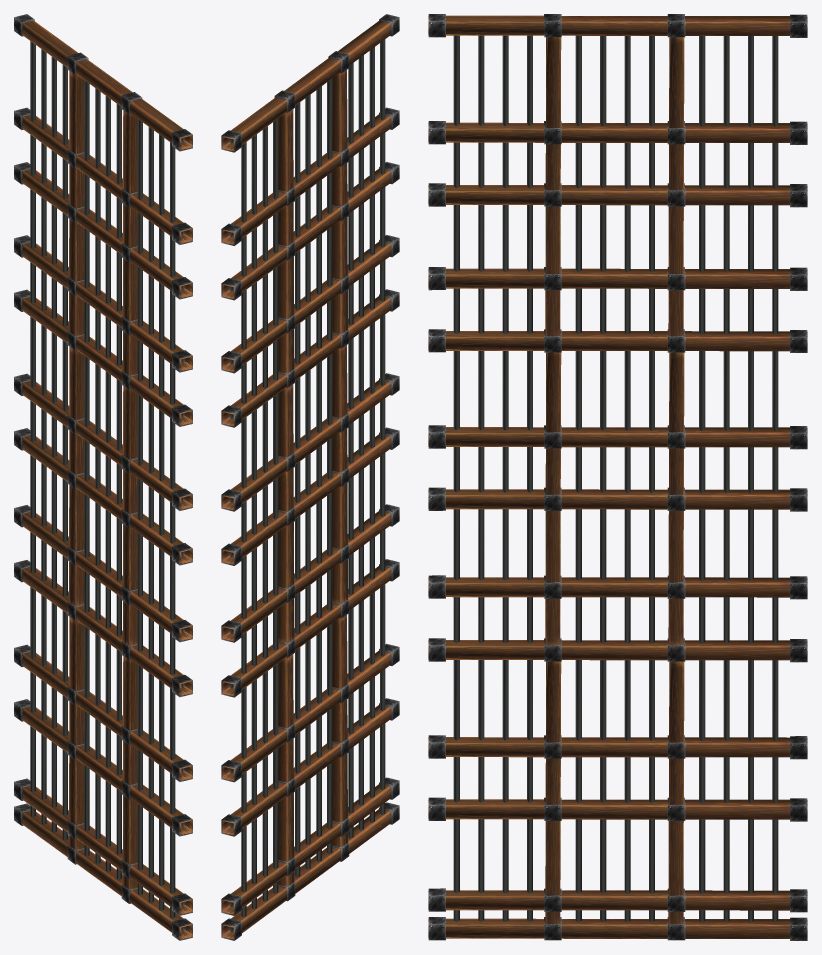
Rendered from INST_SWORDLIGHT_MAINGATE.fbx.
The picture shows the model from 3 angles, left to right: view 1: azimuth 30°, elevation 25°; view 2: azimuth 150°, elevation 25°; view 3: azimuth 270°, elevation 25°; orthographic projection. The views are drawn at different scales.
Parts seen in each view (by area): view 1: INST_SWORDLIGHT_MAINGATE; view 2: INST_SWORDLIGHT_MAINGATE; view 3: INST_SWORDLIGHT_MAINGATE.
Boxes of the visible parts, x1=… form: INST_SWORDLIGHT_MAINGATE: x1=14, y1=14, x2=192, y2=940; INST_SWORDLIGHT_MAINGATE: x1=221, y1=14, x2=399, y2=940; INST_SWORDLIGHT_MAINGATE: x1=428, y1=14, x2=807, y2=940.
Bounding box in the file's own units: 2529 × 145211 × 54260.
3 materials, 3 textured.
